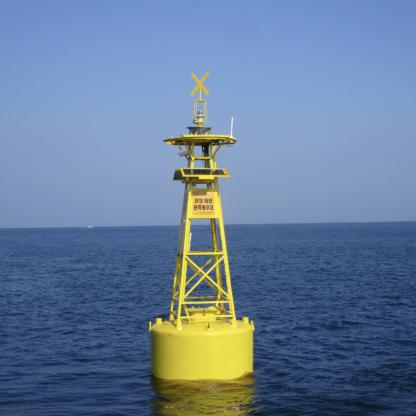buoy: (141, 60, 270, 390)
